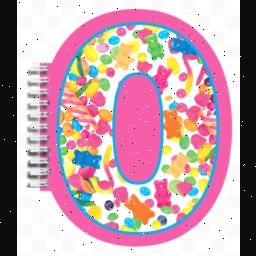o: (54, 8, 232, 248)
